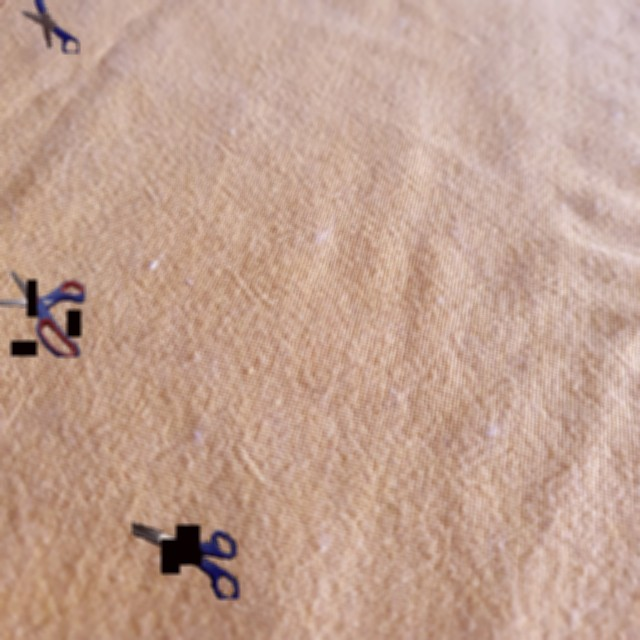scissors: (132, 522, 239, 599), (0, 270, 85, 357), (20, 0, 79, 53)
